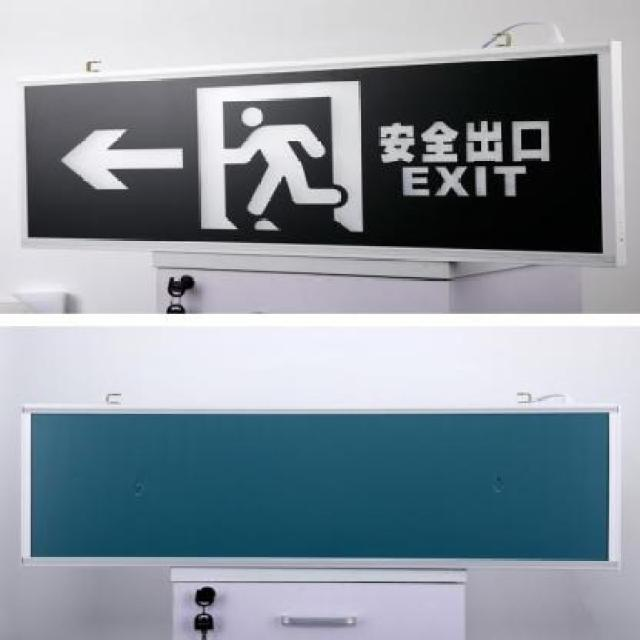exit_sign: (14, 61, 640, 277)
